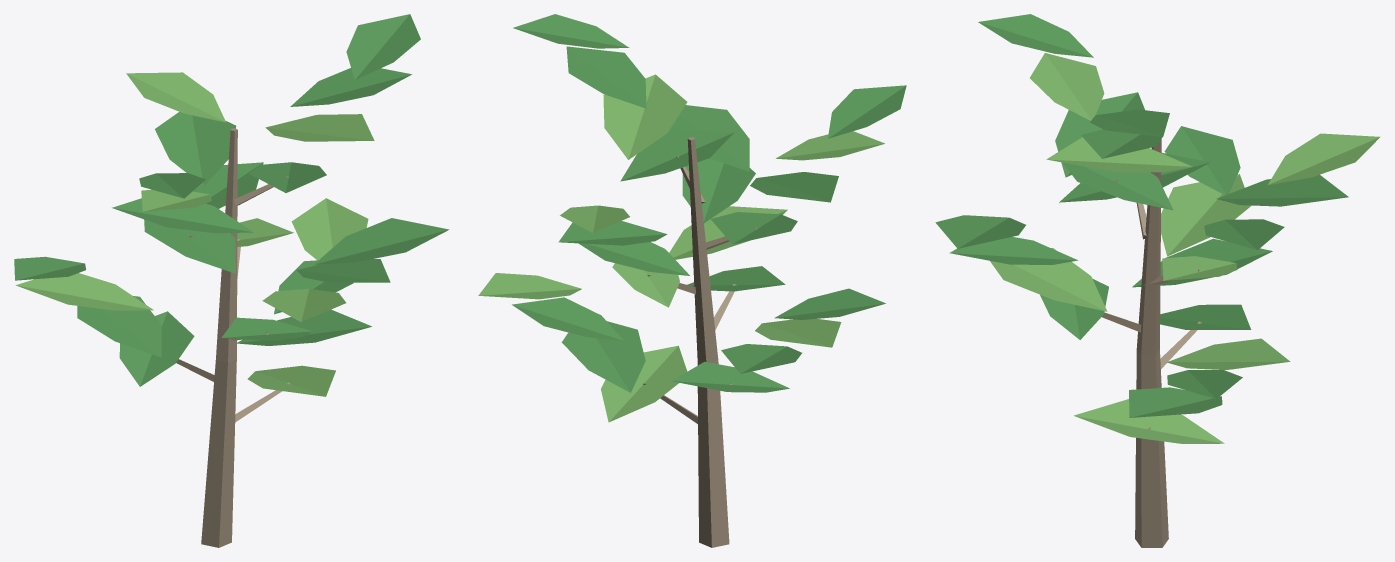
Rendered from birch_sapling_01.glb.
3 views of the same model, side by side, from view 1: azimuth 30°, elevation 25°; view 2: azimuth 150°, elevation 25°; view 3: azimuth 270°, elevation 25° (orthographic). The views are drawn at different scales.
Parts seen in each view (by area): view 1: Birch_sapling_800_01; view 2: Birch_sapling_800_01; view 3: Birch_sapling_800_01.
Boxes of the visible parts, x1,y1,x2,y2 form: Birch_sapling_800_01: [14, 14, 449, 547]; Birch_sapling_800_01: [478, 14, 906, 547]; Birch_sapling_800_01: [935, 14, 1379, 547].
Size of the model in its own units: 1.02 by 1.2 by 0.9525.
